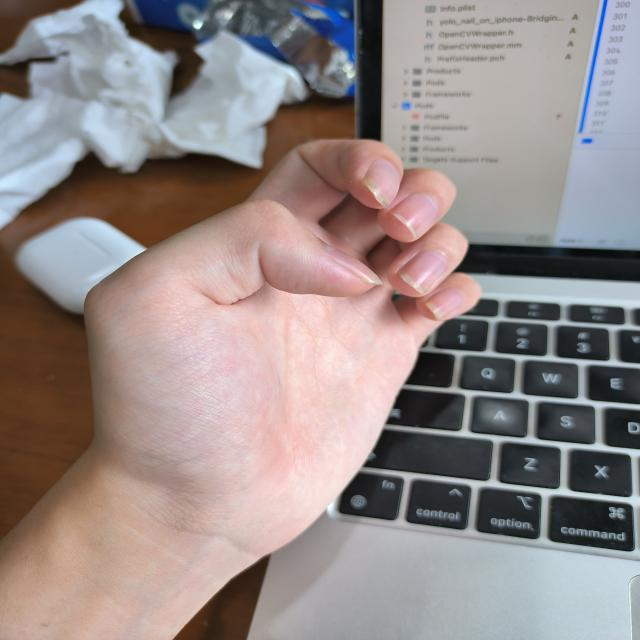Nail: (327, 243, 383, 285), (388, 193, 438, 239), (399, 250, 446, 294), (362, 159, 400, 208), (424, 289, 463, 320)
